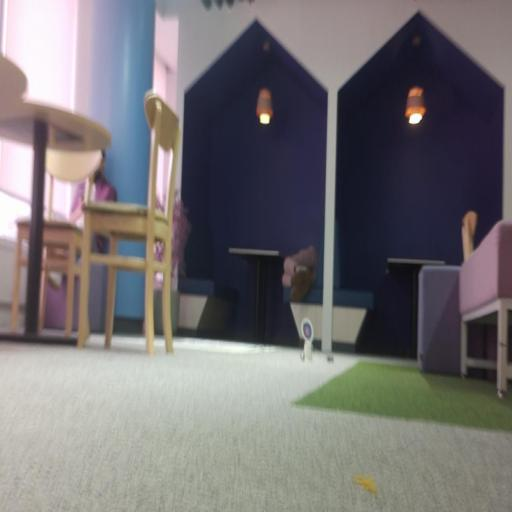target: (301, 318, 313, 346)
